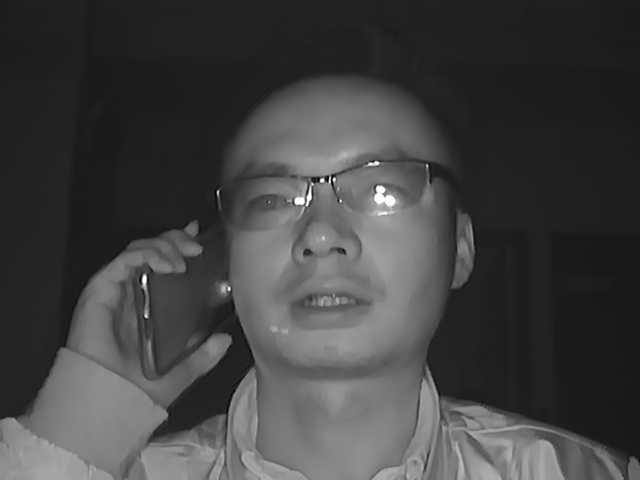hand: (65, 225, 204, 411)
